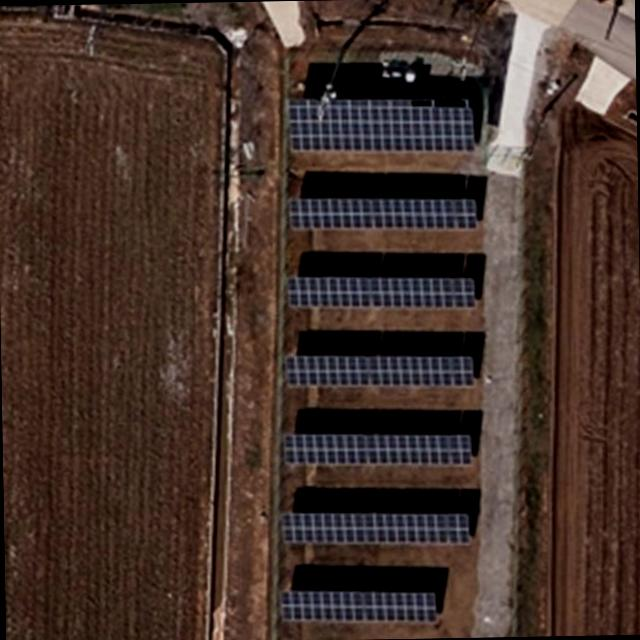solar: (279, 90, 477, 154), (282, 272, 480, 314), (284, 192, 478, 232), (282, 349, 476, 388), (278, 508, 475, 546), (276, 585, 442, 627), (282, 431, 475, 466)
